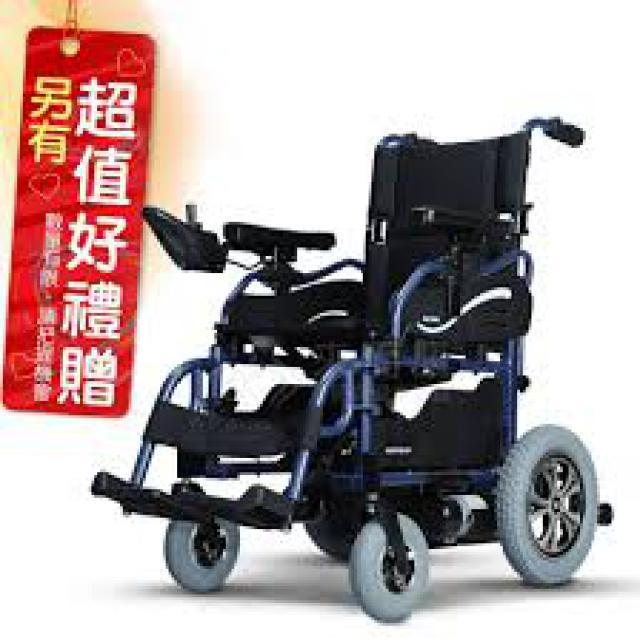wheelchair: (80, 110, 614, 632)
